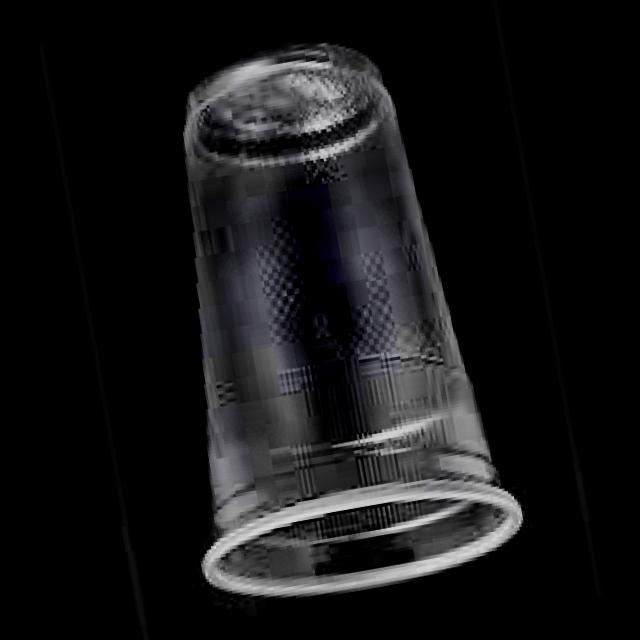plastic cup: (183, 46, 523, 594)
